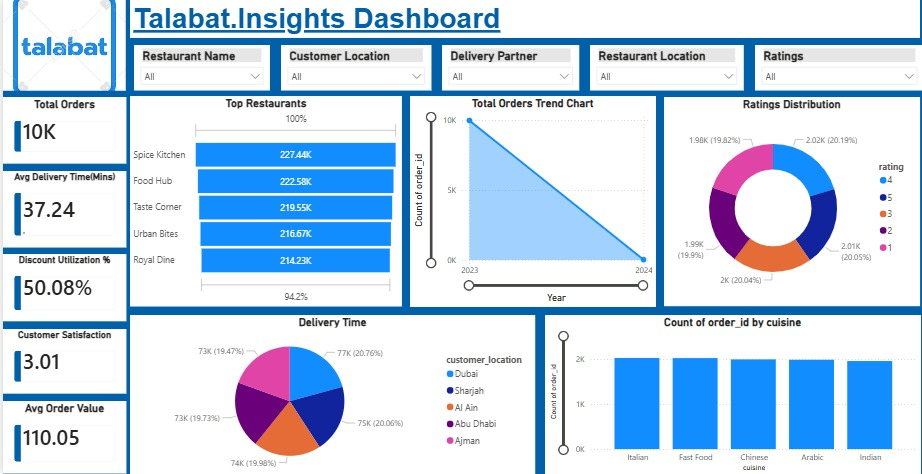

This screenshot's page, from the dashboard's own definition file:
{"tool":"powerbi","page":{"name":"Page 1","canvas":[1400,720],"ordinal":0},"visuals":[{"type":"textbox","box":[192.2,0,1196.9,59.4],"z":0},{"type":"cardVisual","title":"Total Orders","fields":{"Data":["food_delivery_dataset_10000_rows.Total Orders"]},"box":[0,149,186.7,100.9],"z":0,"group":"g4"},{"type":"pieChart","title":"Delivery Time","fields":{"Category":["food_delivery_dataset_10000_rows.customer_location"],"Y":["Sum(food_delivery_dataset_10000_rows.delivery_time_minutes)"]},"box":[192.7,478.7,614.1,242.2],"z":0,"group":"g3"},{"type":"image","box":[0,0,185.9,139.1],"z":1000},{"type":"funnel","title":"Top Restaurants","fields":{"Category":["food_delivery_dataset_10000_rows.restaurant_name"],"Y":["Sum(food_delivery_dataset_10000_rows.order_amount)"]},"box":[192.7,147.5,412.5,319.1],"z":1000,"group":"g2"},{"type":"cardVisual","title":"Avg Delivery Time(Mins)","fields":{"Data":["Avg(food_delivery_dataset_10000_rows.delivery_time_minutes)"]},"box":[0,260.8,186.7,115.9],"z":1000,"group":"g4"},{"type":"group","id":"g1","title":"Group 1","box":[198.4,70.3,1196.9,68.8],"z":2000},{"type":"donutChart","title":"Ratings Distribution","fields":{"Y":["CountNonNull(food_delivery_dataset_10000_rows.order_id)"],"Category":["food_delivery_dataset_10000_rows.rating"]},"box":[1001.6,148.4,387.5,317.2],"z":2000,"group":"g2"},{"type":"cardVisual","title":"Discount Utilization %","fields":{"Data":["food_delivery_dataset_10000_rows.Discount Utilization %"]},"box":[0,387.6,186.7,102.4],"z":2000,"group":"g4"},{"type":"columnChart","fields":{"Category":["food_delivery_dataset_10000_rows.cuisine"],"Y":["CountNonNull(food_delivery_dataset_10000_rows.order_id)"]},"box":[820.8,478.7,568.8,242.2],"z":3000,"group":"g3"},{"type":"cardVisual","title":"Customer Satisfaction","fields":{"Data":["Avg(food_delivery_dataset_10000_rows.rating)"]},"box":[0,500.9,186.7,97.8],"z":3000,"group":"g4"},{"type":"group","id":"g2","title":"Group 3","box":[192.7,147.5,1196.4,319.1],"z":4000},{"type":"cardVisual","title":"Avg Order Value","fields":{"Data":["Avg(food_delivery_dataset_10000_rows.order_amount)"]},"box":[0,609.6,186.7,109.9],"z":4000,"group":"g4"},{"type":"group","id":"g3","title":"Group 4","box":[192.7,478.7,1196.8,240.9],"z":5000},{"type":"group","id":"g4","title":"Group 2","box":[0,149,186.7,570.5],"z":5006},{"type":"areaChart","title":"Total Orders Trend Chart","fields":{"Category":["food_delivery_dataset_10000_rows.order_date.Variation.Date Hierarchy.Year"],"Y":["CountNonNull(food_delivery_dataset_10000_rows.order_id)"]},"box":[617.5,147.5,371.8,319.1],"z":6000,"group":"g2"},{"type":"slicer","fields":{"Values":["food_delivery_dataset_10000_rows.restaurant_name"]},"box":[198.4,70.3,206.2,68.8],"z":10000,"group":"g1"},{"type":"slicer","fields":{"Values":["food_delivery_dataset_10000_rows.customer_location"]},"box":[421.1,70.3,228.1,68.8],"z":11000,"group":"g1"},{"type":"slicer","fields":{"Values":["food_delivery_dataset_10000_rows.delivery_partner"]},"box":[665.6,70.3,207.8,68.8],"z":12000,"group":"g1"},{"type":"slicer","fields":{"Values":["food_delivery_dataset_10000_rows.rating"]},"box":[1139,70.3,256.2,68.8],"z":13000,"group":"g1"},{"type":"slicer","fields":{"Values":["food_delivery_dataset_10000_rows.restaurant_location"]},"box":[889.8,70.3,232.8,68.8],"z":15001,"group":"g1"}]}

Visuals, with their boxes in screenshot pixels (x1, y1, x2, y2), scaled from the page's 1400x720 canvas onto the 922x474 screenshot:
textbox: BBox(127, 0, 915, 39)
"Total Orders" cardVisual: BBox(0, 98, 123, 165)
"Delivery Time" pieChart: BBox(127, 315, 531, 473)
image: BBox(0, 0, 122, 92)
"Top Restaurants" funnel: BBox(127, 97, 399, 307)
"Avg Delivery Time(Mins)" cardVisual: BBox(0, 172, 123, 248)
"Group 1" group: BBox(131, 46, 919, 92)
"Ratings Distribution" donutChart: BBox(660, 98, 915, 307)
"Discount Utilization %" cardVisual: BBox(0, 255, 123, 323)
columnChart - food_delivery_dataset_10000_rows.cuisine x CountNonNull(food_delivery_dataset_10000_rows.order_id): BBox(541, 315, 915, 473)
"Customer Satisfaction" cardVisual: BBox(0, 330, 123, 394)
"Group 3" group: BBox(127, 97, 915, 307)
"Avg Order Value" cardVisual: BBox(0, 401, 123, 473)
"Group 4" group: BBox(127, 315, 915, 473)
"Group 2" group: BBox(0, 98, 123, 473)
"Total Orders Trend Chart" areaChart: BBox(407, 97, 652, 307)
slicer - food_delivery_dataset_10000_rows.restaurant_name: BBox(131, 46, 266, 92)
slicer - food_delivery_dataset_10000_rows.customer_location: BBox(277, 46, 428, 92)
slicer - food_delivery_dataset_10000_rows.delivery_partner: BBox(438, 46, 575, 92)
slicer - food_delivery_dataset_10000_rows.rating: BBox(750, 46, 919, 92)
slicer - food_delivery_dataset_10000_rows.restaurant_location: BBox(586, 46, 739, 92)
